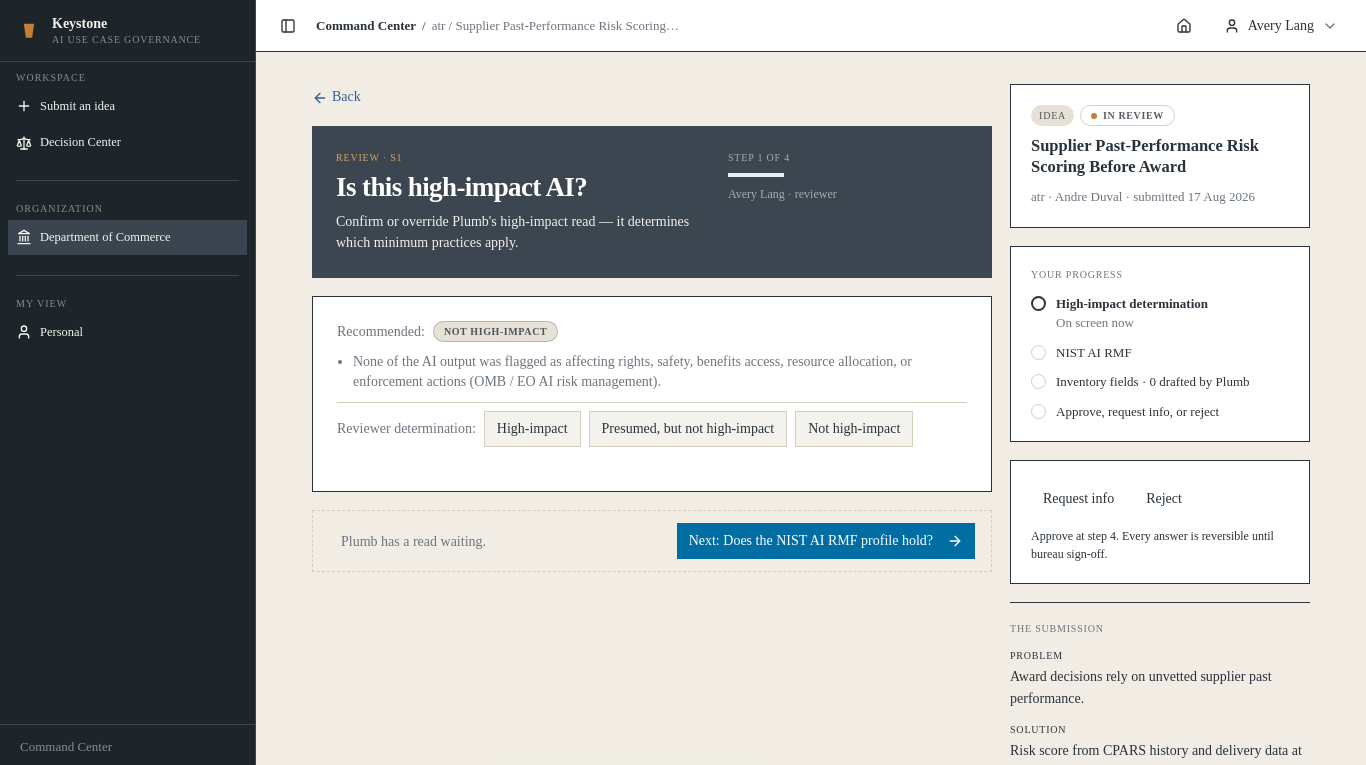
Test: /submissions/[id] — undecided (in-review) record — RD-6 guided process (issue #207) › lets a reviewer jump straight to the disposition step from the rail and see Approve there
This screenshot has width=1366, height=765.
Click the button "Approve, request info, or reject" at (1160, 412), box top-left (1031, 402), bottom-right (1289, 421)
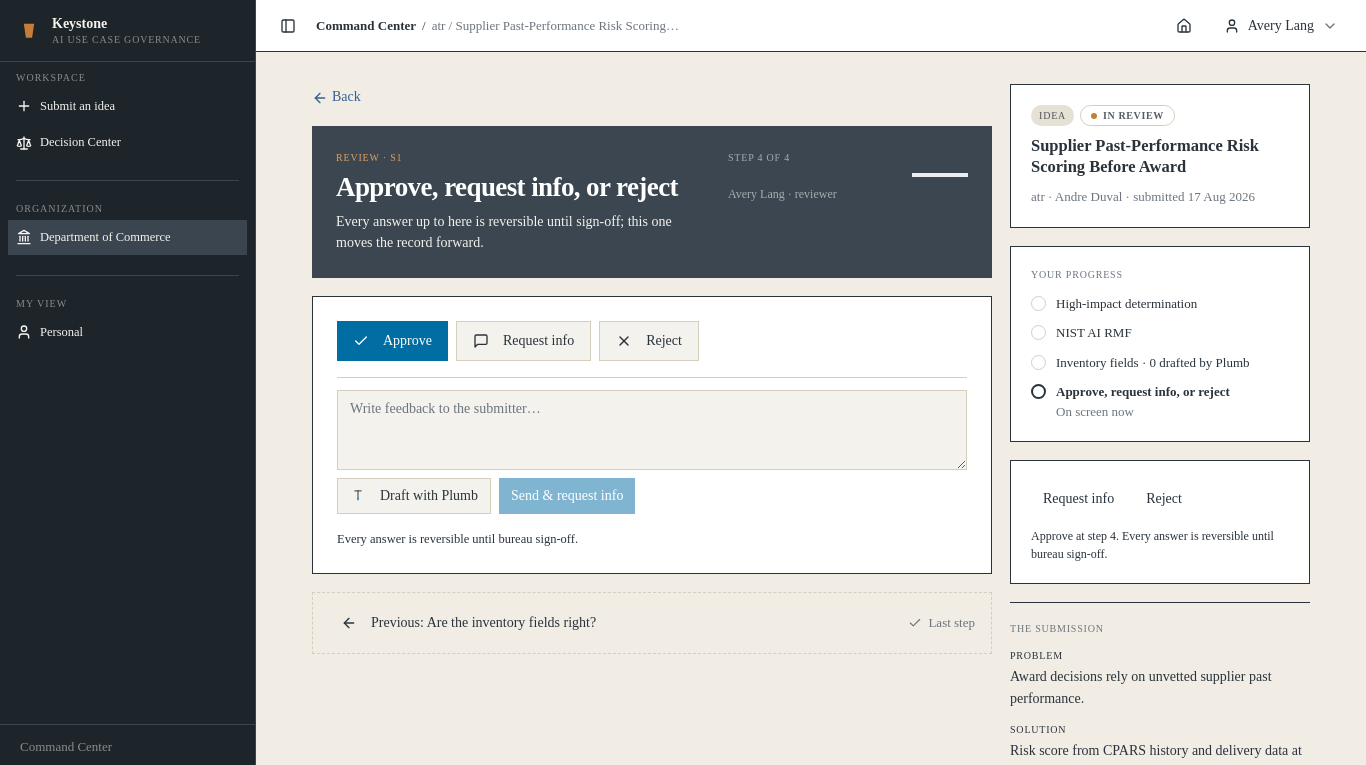
Check: the text "Approve, request info, or reject" is shown, box top-left (336, 173), bottom-right (696, 203)
Check: the button "Approve" is enabled, box top-left (337, 321), bottom-right (448, 361)
